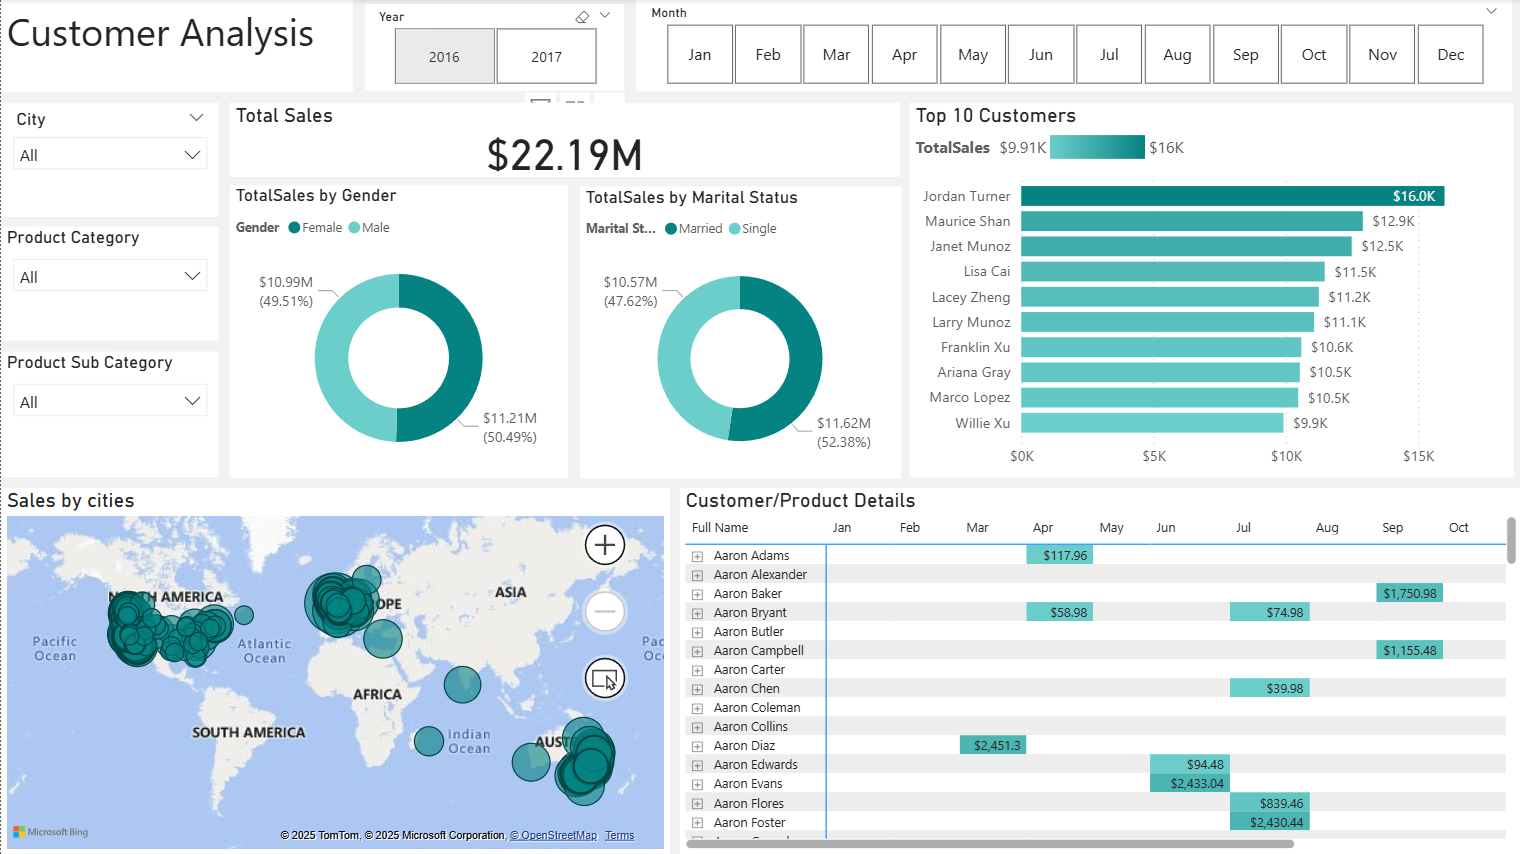

The page's visual inventory and layout, read from the dashboard file:
{"tool":"powerbi","page":{"name":"Customer Analysis","canvas":[1280,720],"ordinal":1},"visuals":[{"type":"textbox","box":[0,0,296.4,78.2],"z":0},{"type":"slicer","fields":{"Values":["Dim_Date.Year"]},"box":[305.4,2.7,220.3,75.2],"z":1000},{"type":"slicer","title":"Product Category","fields":{"Values":["Dim_Product.Category"]},"box":[0,191.6,183.6,95.8],"z":2000},{"type":"slicer","title":"Product Sub Category","fields":{"Values":["Dim_Product.Sub Category"]},"box":[0,296.4,183.6,105.7],"z":3000},{"type":"slicer","fields":{"Values":["Dim_Customer.City"]},"box":[0,86.9,183.6,95.8],"z":4000},{"type":"slicer","fields":{"Values":["Dim_Date.Month"]},"box":[534.6,0,737,77.9],"z":5000},{"type":"barChart","title":"Top 10 Customers","fields":{"Category":["Dim_Customer.Full Name"],"Y":["Fact_Internet_Sales.TotalSales"]},"box":[763.9,86.9,507.8,315.2],"z":6000},{"type":"map","title":"Sales by cities","fields":{"Category":["Dim_Customer.City"],"Size":["Fact_Internet_Sales.TotalSales"]},"box":[0,410.9,562.7,309.1],"z":7000},{"type":"donutChart","fields":{"Y":["Fact_Internet_Sales.TotalSales"],"Category":["Dim_Customer.Gender"]},"box":[192.7,156.4,284.5,246.4],"z":8000},{"type":"pivotTable","title":"Customer/Product Details","fields":{"Rows":["Dim_Customer.Full Name","Dim_Product.EnglishProductName"],"Columns":["Dim_Date.Month"],"Values":["Fact_Internet_Sales.TotalSales"]},"box":[570.9,410.9,709.1,309.1],"z":9000},{"type":"donutChart","fields":{"Y":["Fact_Internet_Sales.TotalSales"],"Category":["Dim_Customer.Marital Status"]},"box":[486.4,157.3,270,245.5],"z":10000},{"type":"card","title":"Total Sales","fields":{"Values":["Fact_Internet_Sales.TotalSales"]},"box":[192.7,87.3,563.6,62.7],"z":11000}]}

Visuals, with their boxes in screenshot pixels (x1, y1, x2, y2), scaled from the page's 1280x720 canvas onto the 1520x854 screenshot:
textbox: [left=0, top=0, right=352, bottom=93]
slicer - Dim_Date.Year: [left=363, top=3, right=624, bottom=92]
"Product Category" slicer: [left=0, top=227, right=218, bottom=341]
"Product Sub Category" slicer: [left=0, top=352, right=218, bottom=477]
slicer - Dim_Customer.City: [left=0, top=103, right=218, bottom=217]
slicer - Dim_Date.Month: [left=635, top=0, right=1510, bottom=92]
"Top 10 Customers" barChart: [left=907, top=103, right=1510, bottom=477]
"Sales by cities" map: [left=0, top=487, right=668, bottom=853]
donutChart - Fact_Internet_Sales.TotalSales x Dim_Customer.Gender: [left=229, top=186, right=567, bottom=478]
"Customer/Product Details" pivotTable: [left=678, top=487, right=1519, bottom=853]
donutChart - Fact_Internet_Sales.TotalSales x Dim_Customer.Marital Status: [left=578, top=187, right=898, bottom=478]
"Total Sales" card: [left=229, top=104, right=898, bottom=178]
